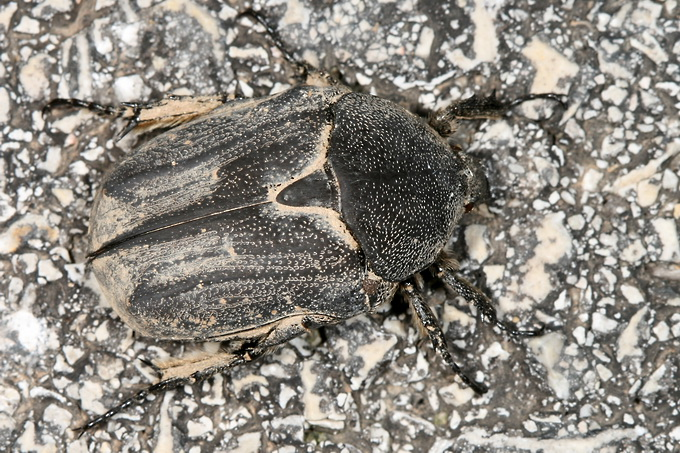Protaetia_morio_morio: (31, 57, 580, 438)
